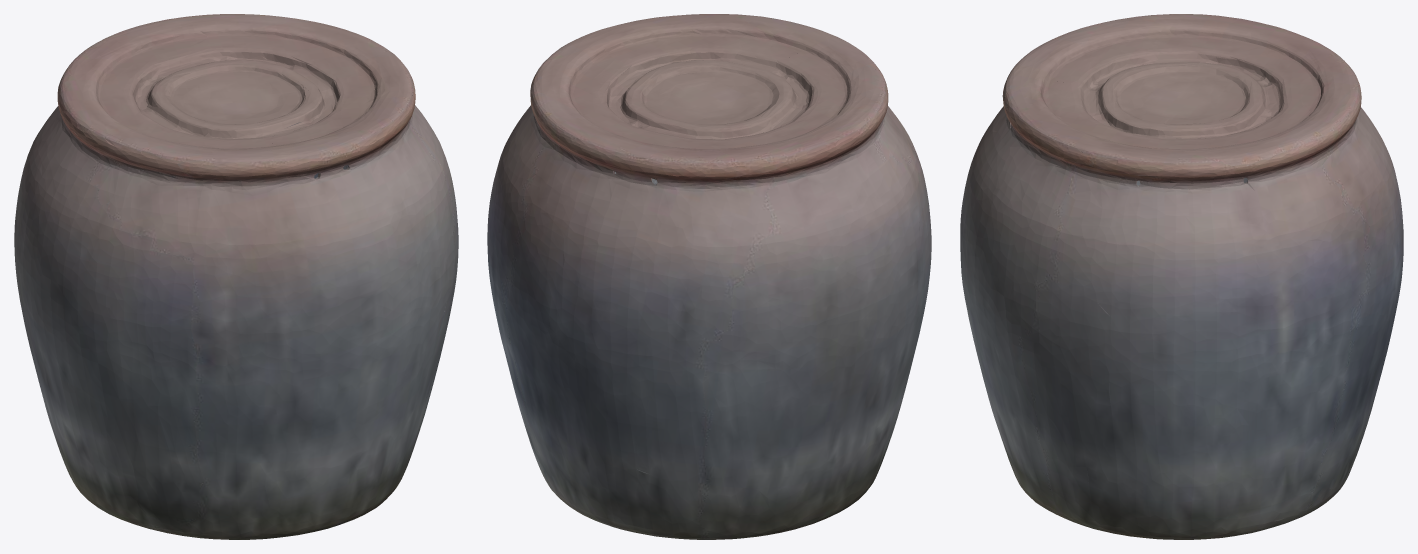
Rendered from large_light-colored_ceramic_jar_in_foreground_000.glb.
3 renders of one model, left to right at view 1: azimuth 30°, elevation 25°; view 2: azimuth 150°, elevation 25°; view 3: azimuth 270°, elevation 25°, orthographic.
Parts seen in each view (by area): view 1: phase2_final_large_light-colored_ceramic_jar_in_foreground_0; view 2: phase2_final_large_light-colored_ceramic_jar_in_foreground_0; view 3: phase2_final_large_light-colored_ceramic_jar_in_foreground_0.
Part boxes in pixels (x1=…): phase2_final_large_light-colored_ceramic_jar_in_foreground_0: x1=14, y1=14, x2=458, y2=539; phase2_final_large_light-colored_ceramic_jar_in_foreground_0: x1=487, y1=14, x2=931, y2=539; phase2_final_large_light-colored_ceramic_jar_in_foreground_0: x1=960, y1=14, x2=1403, y2=539.
Size of the model in its own units: 0.2348 by 0.2257 by 0.2348.
Materials: 1 (1 with a texture image).
